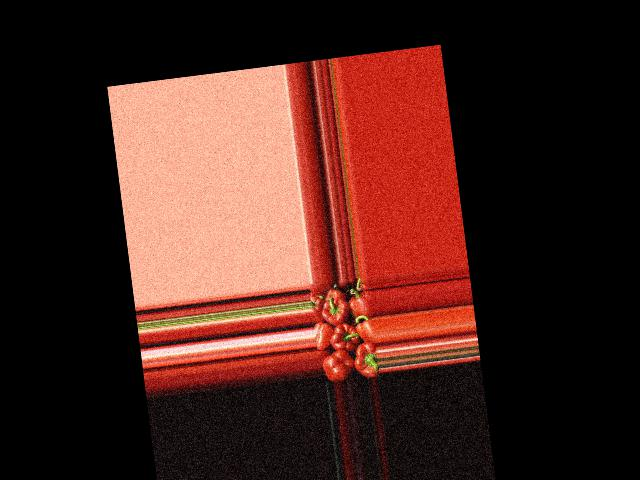bell_pepper: (314, 321, 333, 351)
